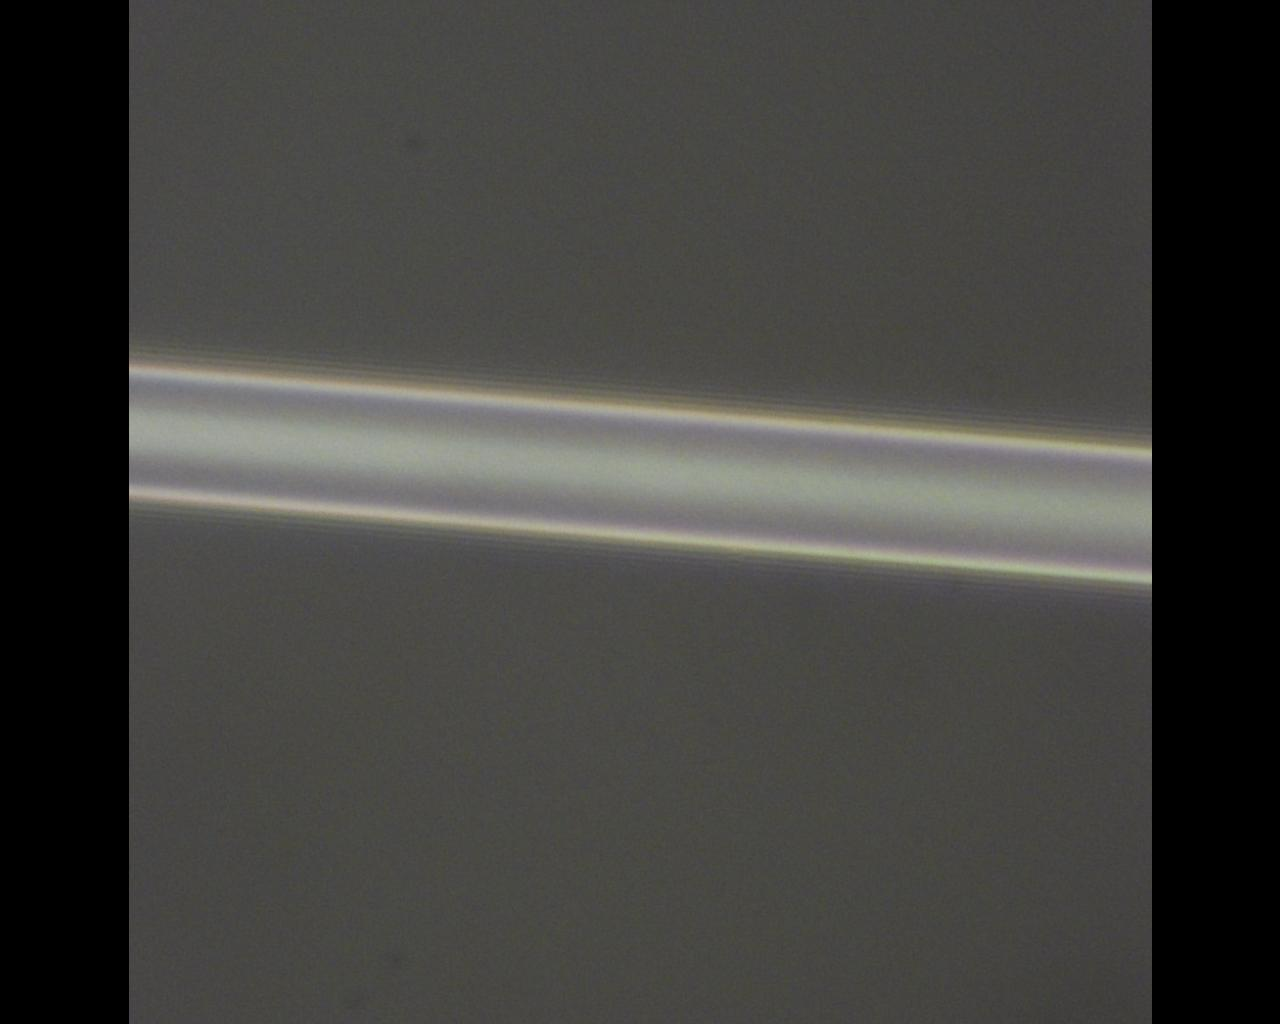fiber: (512, 225, 1159, 336), (350, 583, 512, 958), (512, 949, 1280, 1024), (0, 182, 425, 297)
